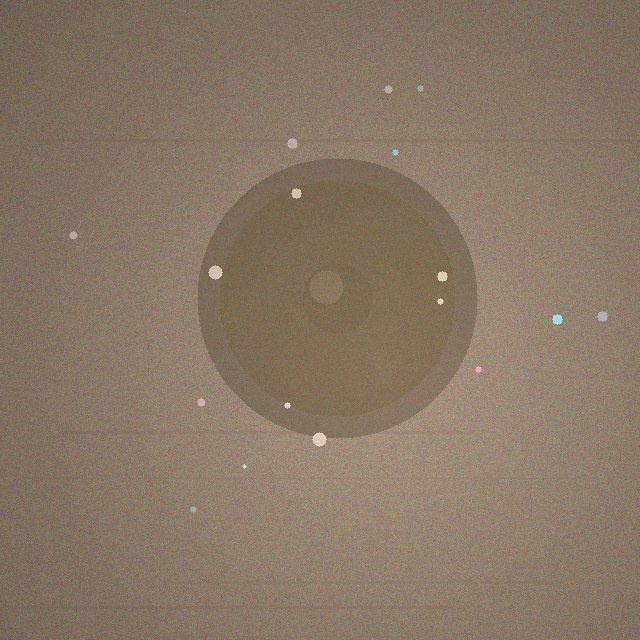overburn: (197, 158, 477, 438)
